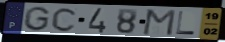4: (87, 7, 107, 34)
8: (115, 8, 139, 35)
C: (50, 7, 80, 33)
G: (22, 5, 52, 32)
L: (175, 10, 197, 36)
M: (141, 9, 178, 37)
